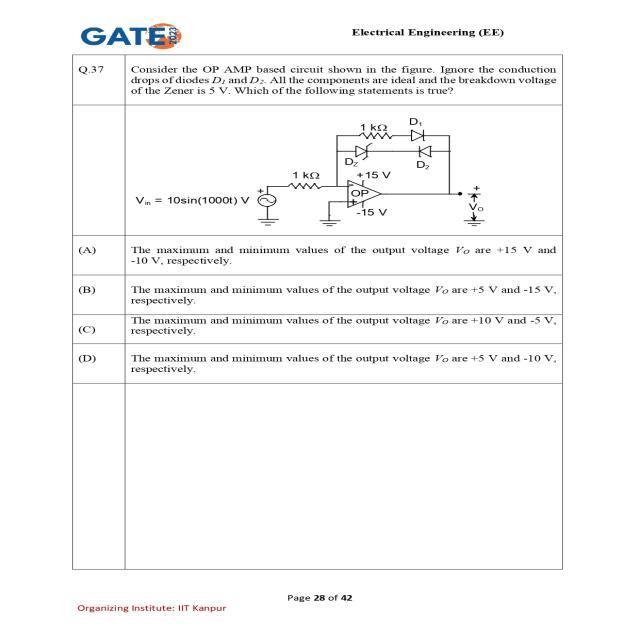Answer_Block: (65, 236, 557, 384)
Question_Answer_Block: (69, 53, 559, 385)
Question_Block: (65, 50, 557, 233)
Question_Paper_Area: (69, 53, 563, 571)
